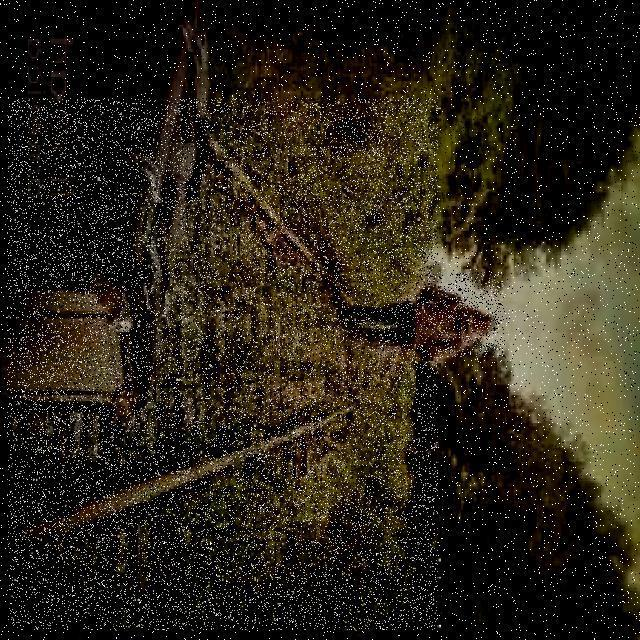danger: (334, 273, 504, 357)
rail: (8, 99, 438, 630)
